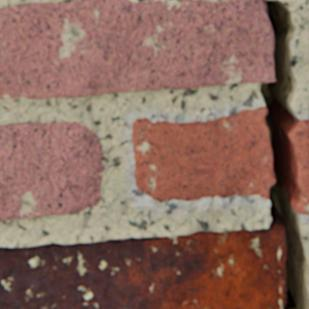brick: (0, 0, 274, 98), (0, 227, 284, 308), (0, 121, 104, 220)
broken_brick: (132, 106, 274, 201), (288, 119, 308, 213)
crack: (259, 0, 308, 308)
